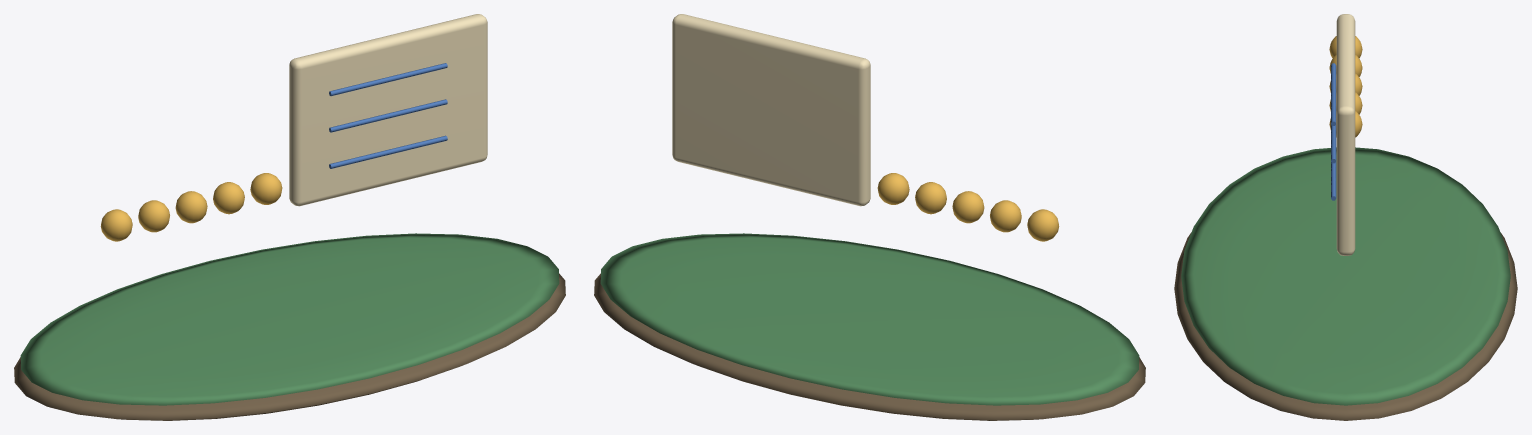
File: written-numbers.glb
The picture shows the model from 3 angles, left to right: view 1: azimuth 30°, elevation 25°; view 2: azimuth 150°, elevation 25°; view 3: azimuth 270°, elevation 25°; orthographic projection. The views are drawn at different scales.
Visible parts, largest first — view 1: written-numbers_surface_01, written-numbers_surface_03, written-numbers_surface_00, written-numbers_surface_02, written-numbers_surface_04; view 2: written-numbers_surface_01, written-numbers_surface_03, written-numbers_surface_00, written-numbers_surface_02; view 3: written-numbers_surface_01, written-numbers_surface_00, written-numbers_surface_03, written-numbers_surface_02, written-numbers_surface_04.
Boxes of the visible parts, x1=… form: written-numbers_surface_01: x1=20, y1=233, x2=559, y2=405; written-numbers_surface_03: x1=289, y1=14, x2=487, y2=206; written-numbers_surface_00: x1=14, y1=273, x2=565, y2=420; written-numbers_surface_02: x1=100, y1=173, x2=282, y2=241; written-numbers_surface_04: x1=329, y1=63, x2=447, y2=168; written-numbers_surface_01: x1=600, y1=233, x2=1139, y2=405; written-numbers_surface_03: x1=672, y1=14, x2=870, y2=206; written-numbers_surface_00: x1=594, y1=273, x2=1145, y2=420; written-numbers_surface_02: x1=877, y1=173, x2=1059, y2=241; written-numbers_surface_01: x1=1181, y1=147, x2=1510, y2=405; written-numbers_surface_00: x1=1174, y1=232, x2=1517, y2=420; written-numbers_surface_03: x1=1336, y1=14, x2=1355, y2=255; written-numbers_surface_02: x1=1329, y1=36, x2=1362, y2=137; written-numbers_surface_04: x1=1331, y1=63, x2=1336, y2=200.
Bounding box in the file's own units: 4.56 × 2.36 × 2.5.
